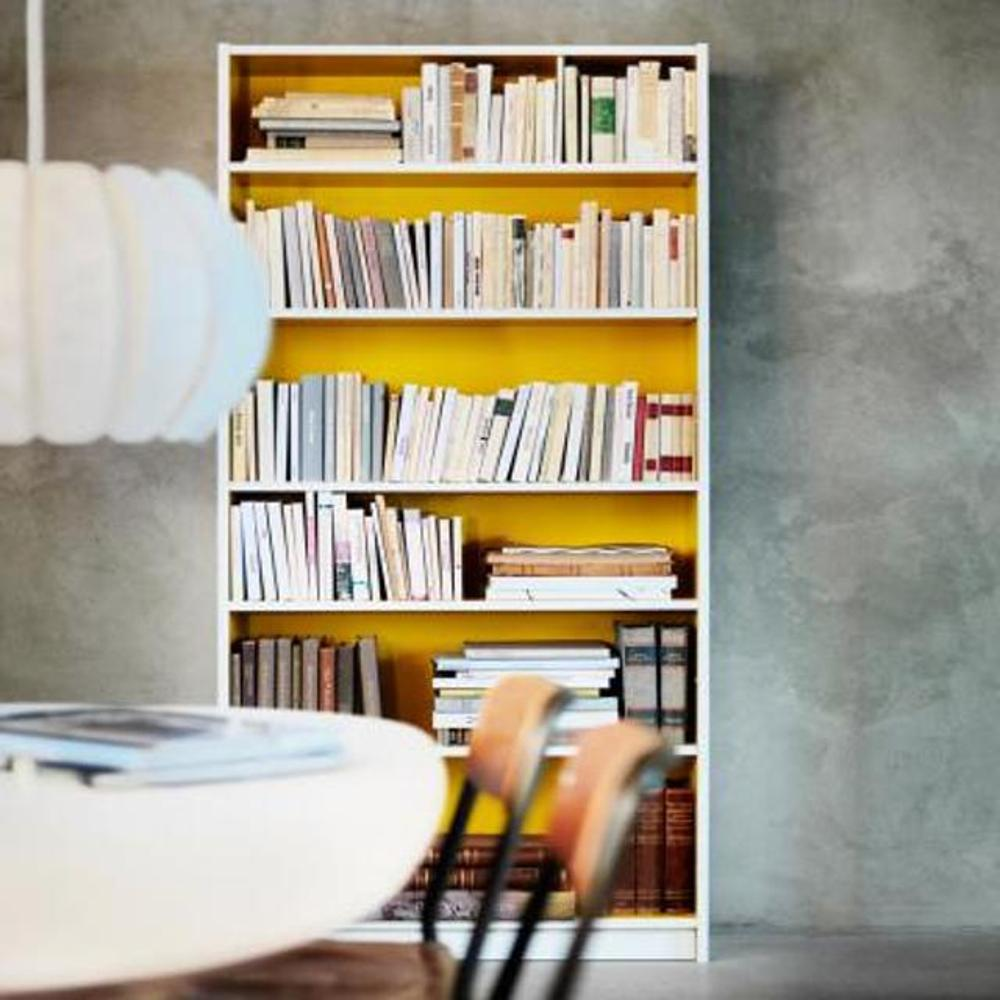lamp: (213, 41, 710, 966)
